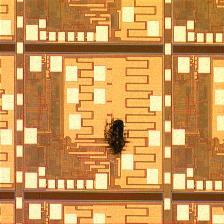PARTICLE: (104, 118, 133, 159)
